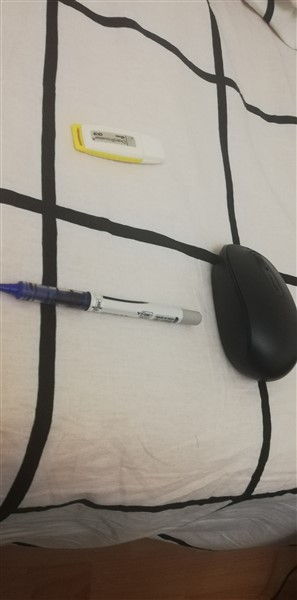flash disk: (66, 111, 172, 171)
mouse: (211, 239, 297, 382)
pilot kalem: (2, 271, 204, 334)
